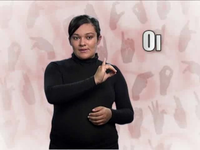oi: (96, 56, 118, 84)
